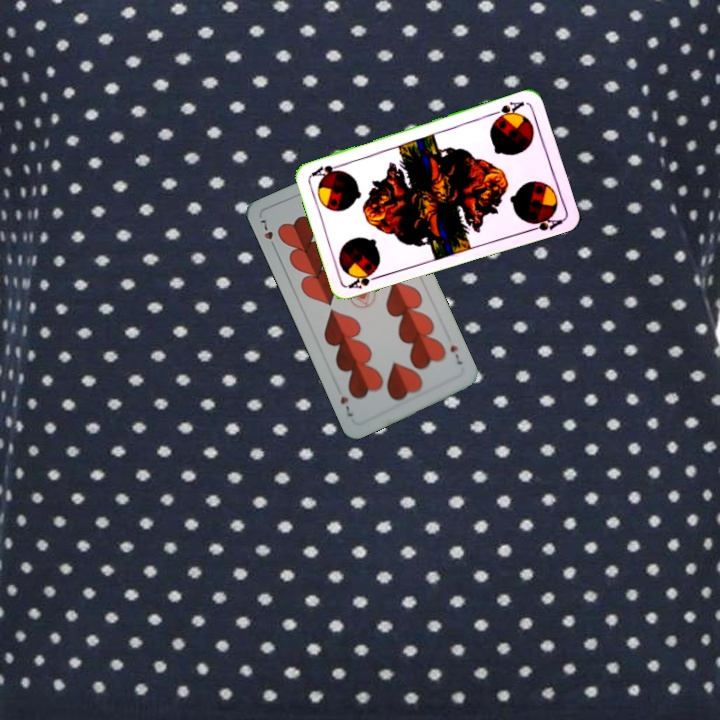H7: (256, 216, 279, 253), (446, 341, 465, 367)
SA: (487, 97, 527, 123), (344, 268, 384, 291)
